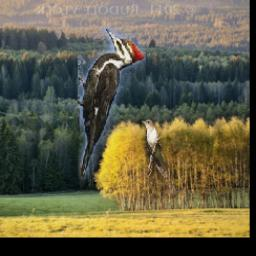Cuckoo: (141, 120, 175, 195)
Woodpecker: (77, 27, 145, 188)
